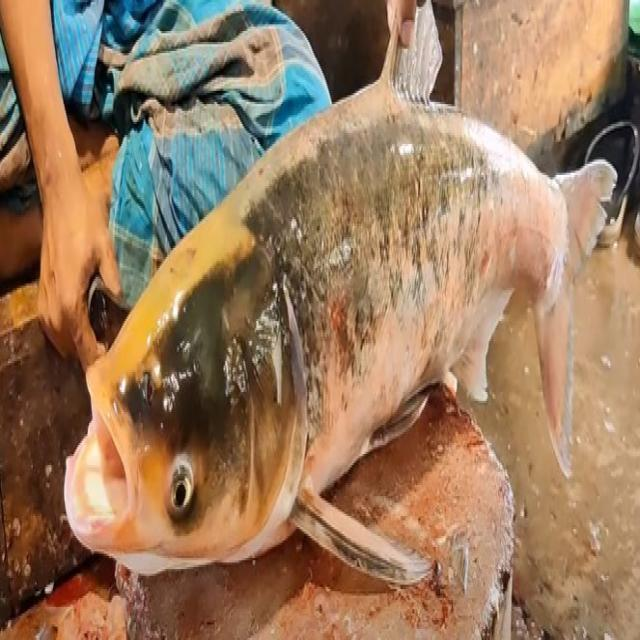Big-Head-Carp: (13, 22, 623, 586)
